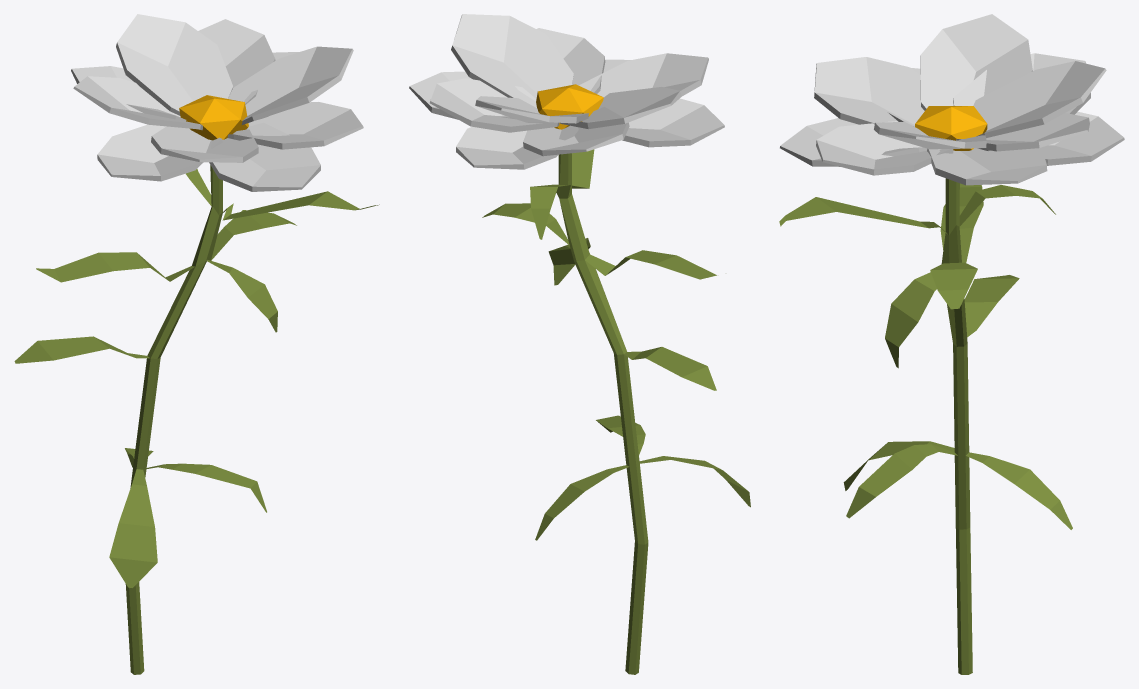
The model's file is calandula.glb.
3 renders of one model, left to right at view 1: azimuth 30°, elevation 25°; view 2: azimuth 150°, elevation 25°; view 3: azimuth 270°, elevation 25°, orthographic. The views are drawn at different scales.
Visible parts, largest first — view 1: Blossom, Stem, Pollen; view 2: Blossom, Stem, Pollen; view 3: Blossom, Stem, Pollen.
Part boxes in pixels (x1,y1,x2,y2): Blossom: (71, 14, 363, 191); Stem: (14, 165, 379, 674); Pollen: (179, 95, 248, 140); Blossom: (409, 14, 724, 169); Stem: (482, 149, 750, 674); Pollen: (536, 84, 603, 129); Blossom: (780, 14, 1124, 185); Stem: (779, 178, 1072, 674); Pollen: (915, 106, 987, 150).
Bounding box in the file's own units: 0.6344 × 1.2 × 0.5859.
